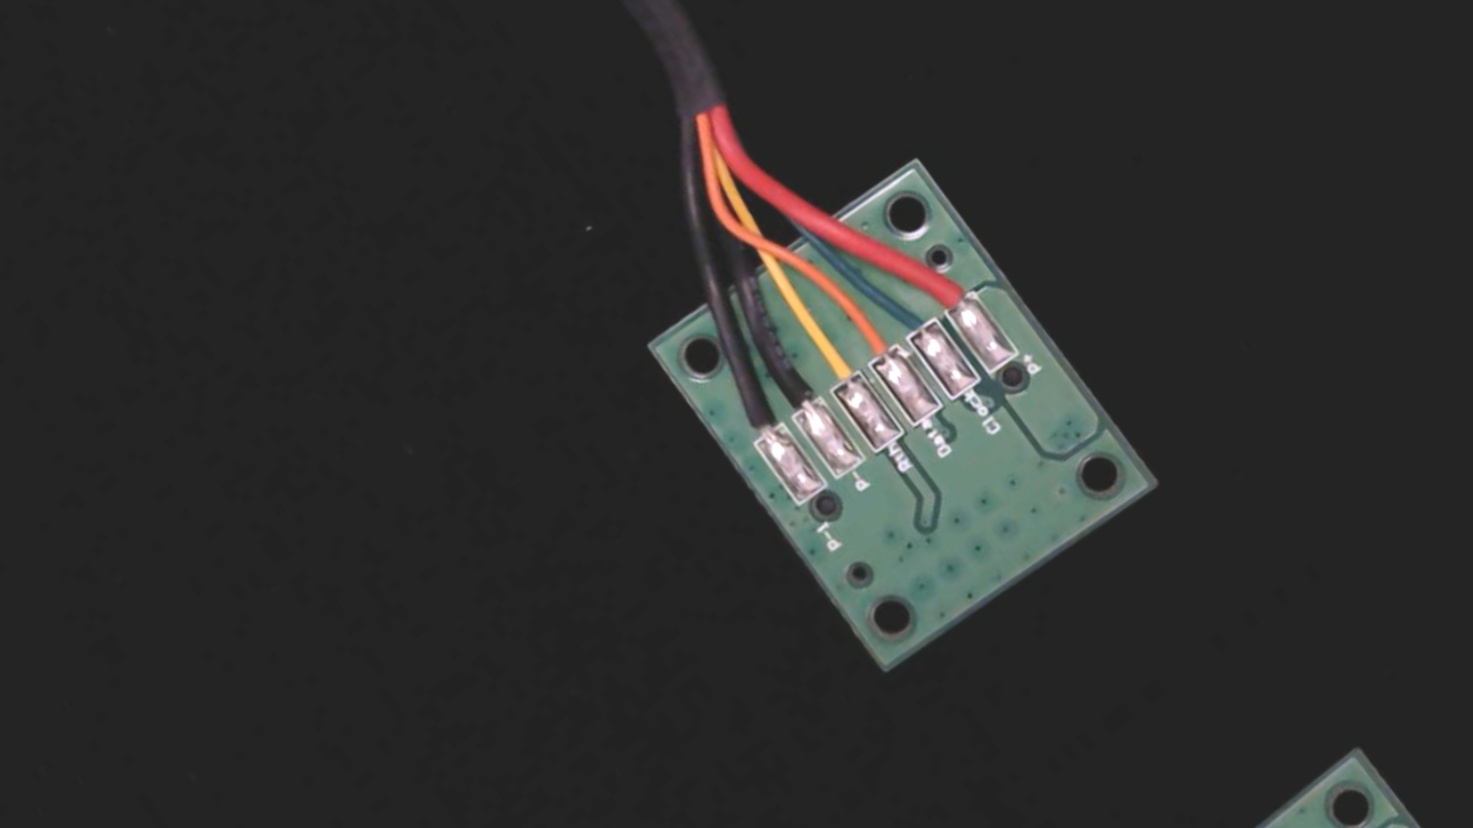Black: (751, 346, 838, 442)
Black1: (714, 378, 796, 467)
Green: (874, 279, 950, 360)
Orange: (827, 294, 912, 386)
Red: (903, 241, 988, 333)
Yellow: (790, 315, 878, 411)
